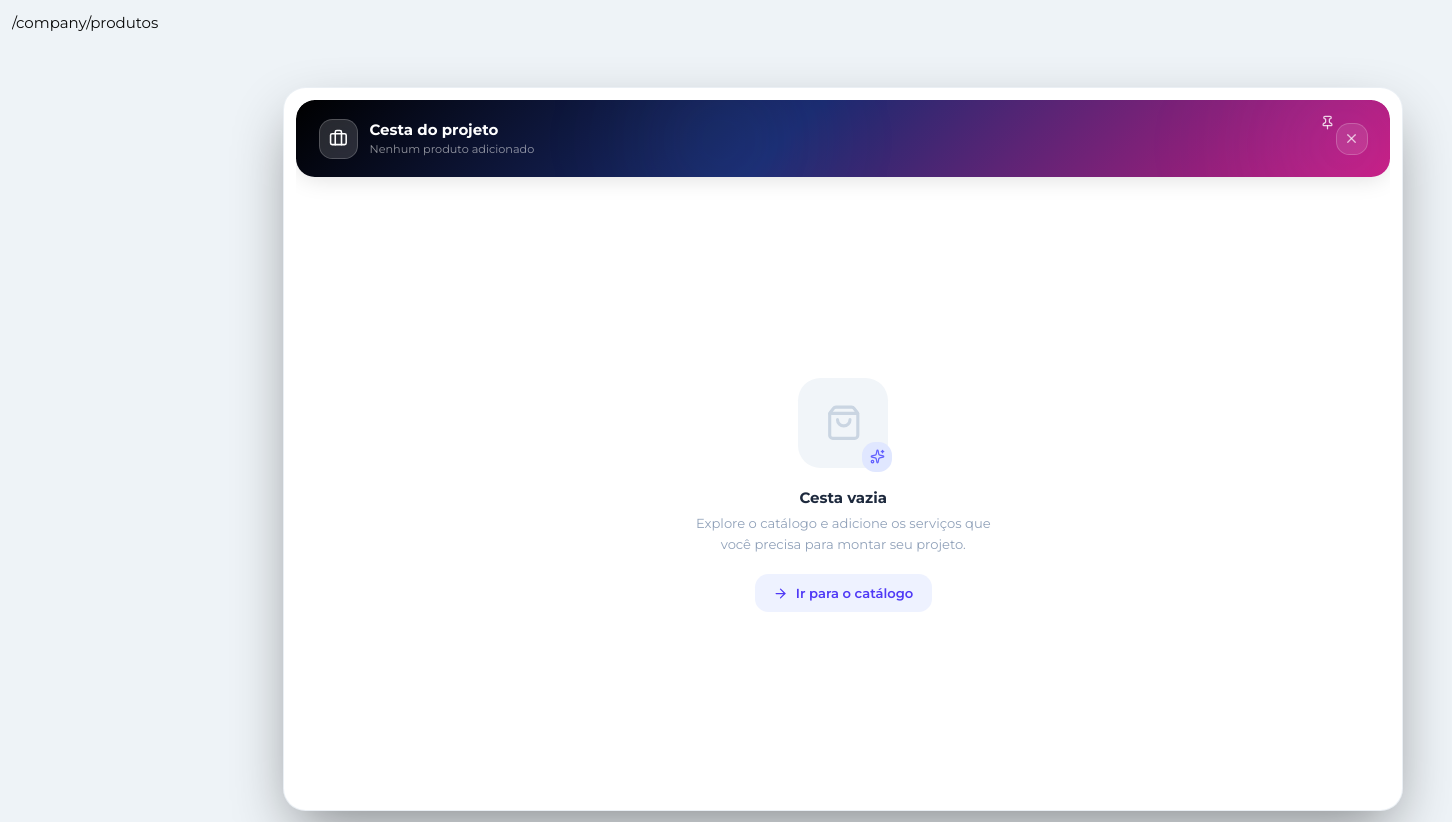
ProjectBasketDrawer — navegação do botão de catálogo › 11. Nenhum overlay/painel sobra no DOM depois de fechar (desktop)
Click the button "Ir para o catálogo": (843, 593) [754,574,932,612]
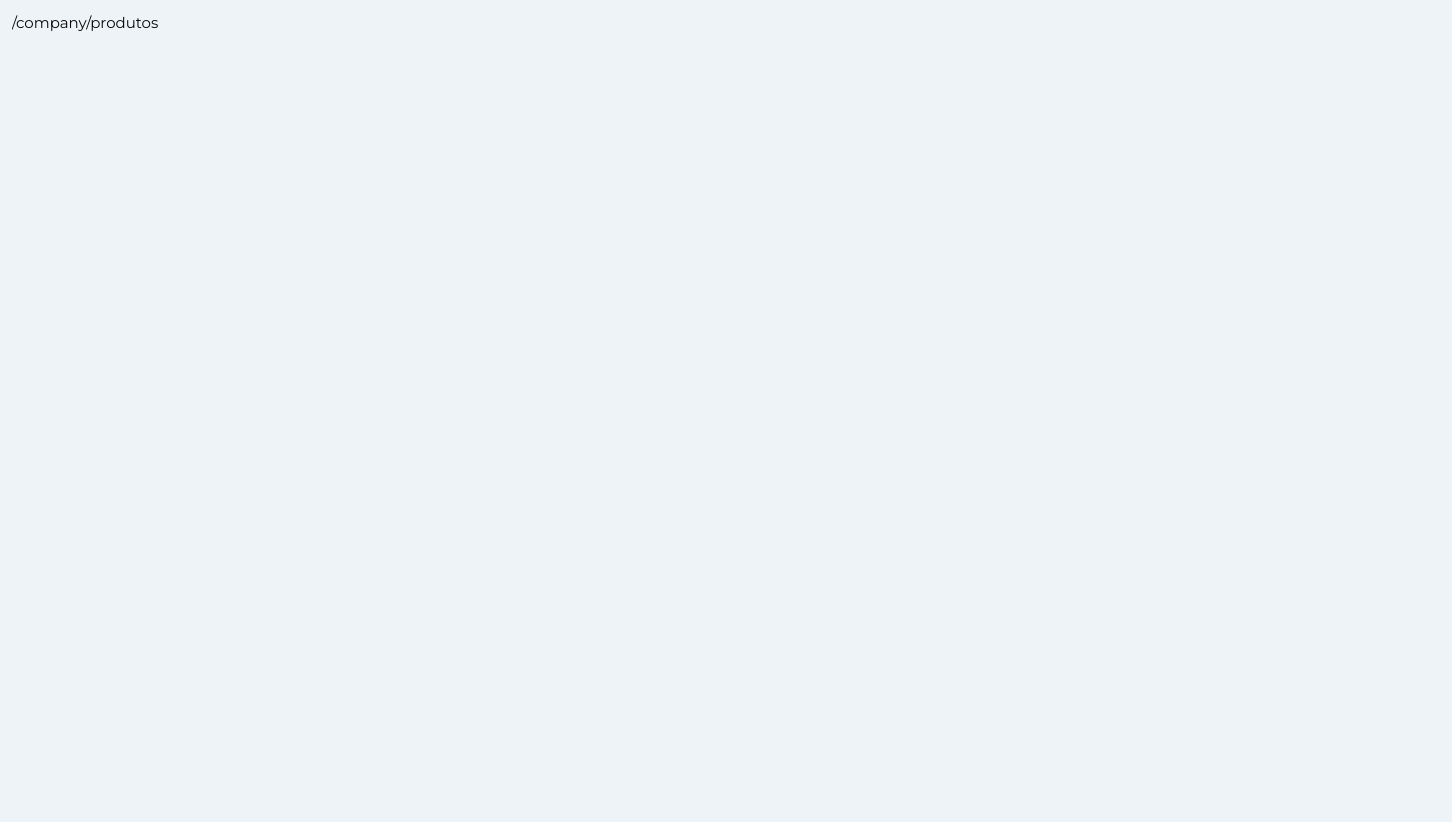
expect the text "Cesta do projeto" is gone: met
